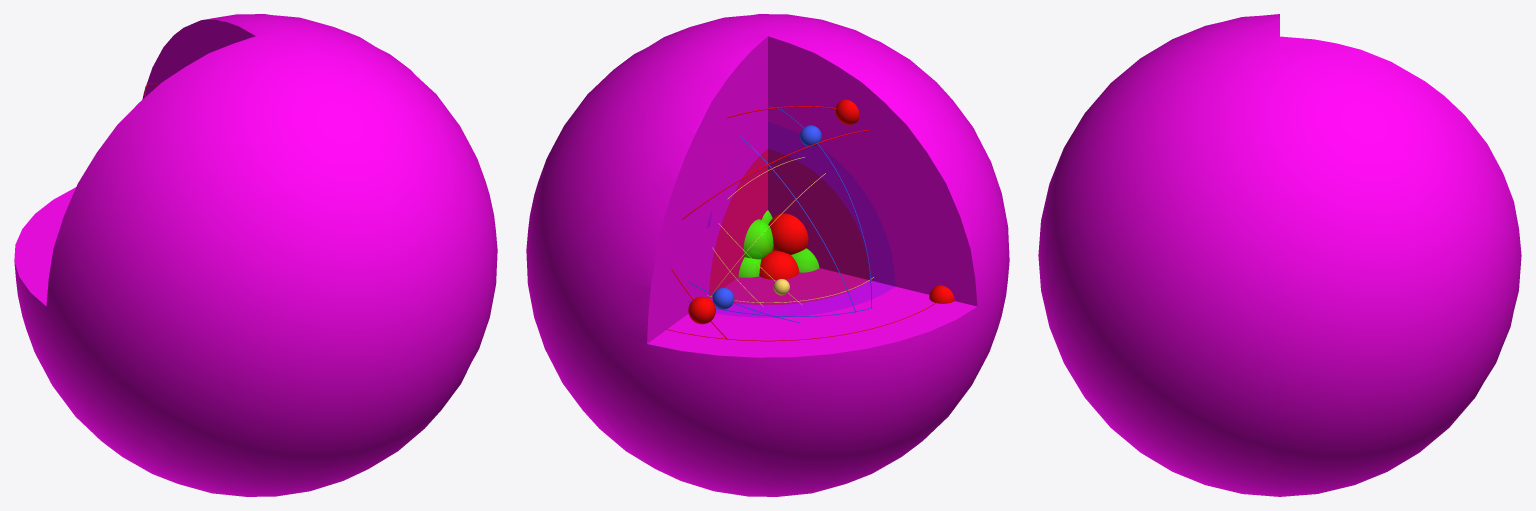
Rendered from atom.glb.
The picture shows the model from 3 angles, left to right: view 1: azimuth 30°, elevation 25°; view 2: azimuth 150°, elevation 25°; view 3: azimuth 270°, elevation 25°; orthographic projection.
Visible parts, largest first — view 1: atom_pink op_0; view 2: atom_pink op_0, obolochka_blue op_0, jadro_red op_0, electrony_1ur_red_0, protony_red_0, neytrony_green_0, elecrony_3ur_blue_0, electrony_2ur_yellow_0; view 3: atom_pink op_0.
Boxes of the visible parts, x1,y1,x2,y2 form: atom_pink op_0: (14,14,497,496); atom_pink op_0: (526,14,1009,496); obolochka_blue op_0: (707,122,894,316); jadro_red op_0: (709,149,869,304); electrony_1ur_red_0: (666,99,954,341); protony_red_0: (759,213,808,279); neytrony_green_0: (738,210,819,277); elecrony_3ur_blue_0: (687,106,874,322); electrony_2ur_yellow_0: (707,157,873,306); atom_pink op_0: (1038,14,1521,496).
Bounding box in the file's own units: 0.9209 × 0.9209 × 0.9209.
